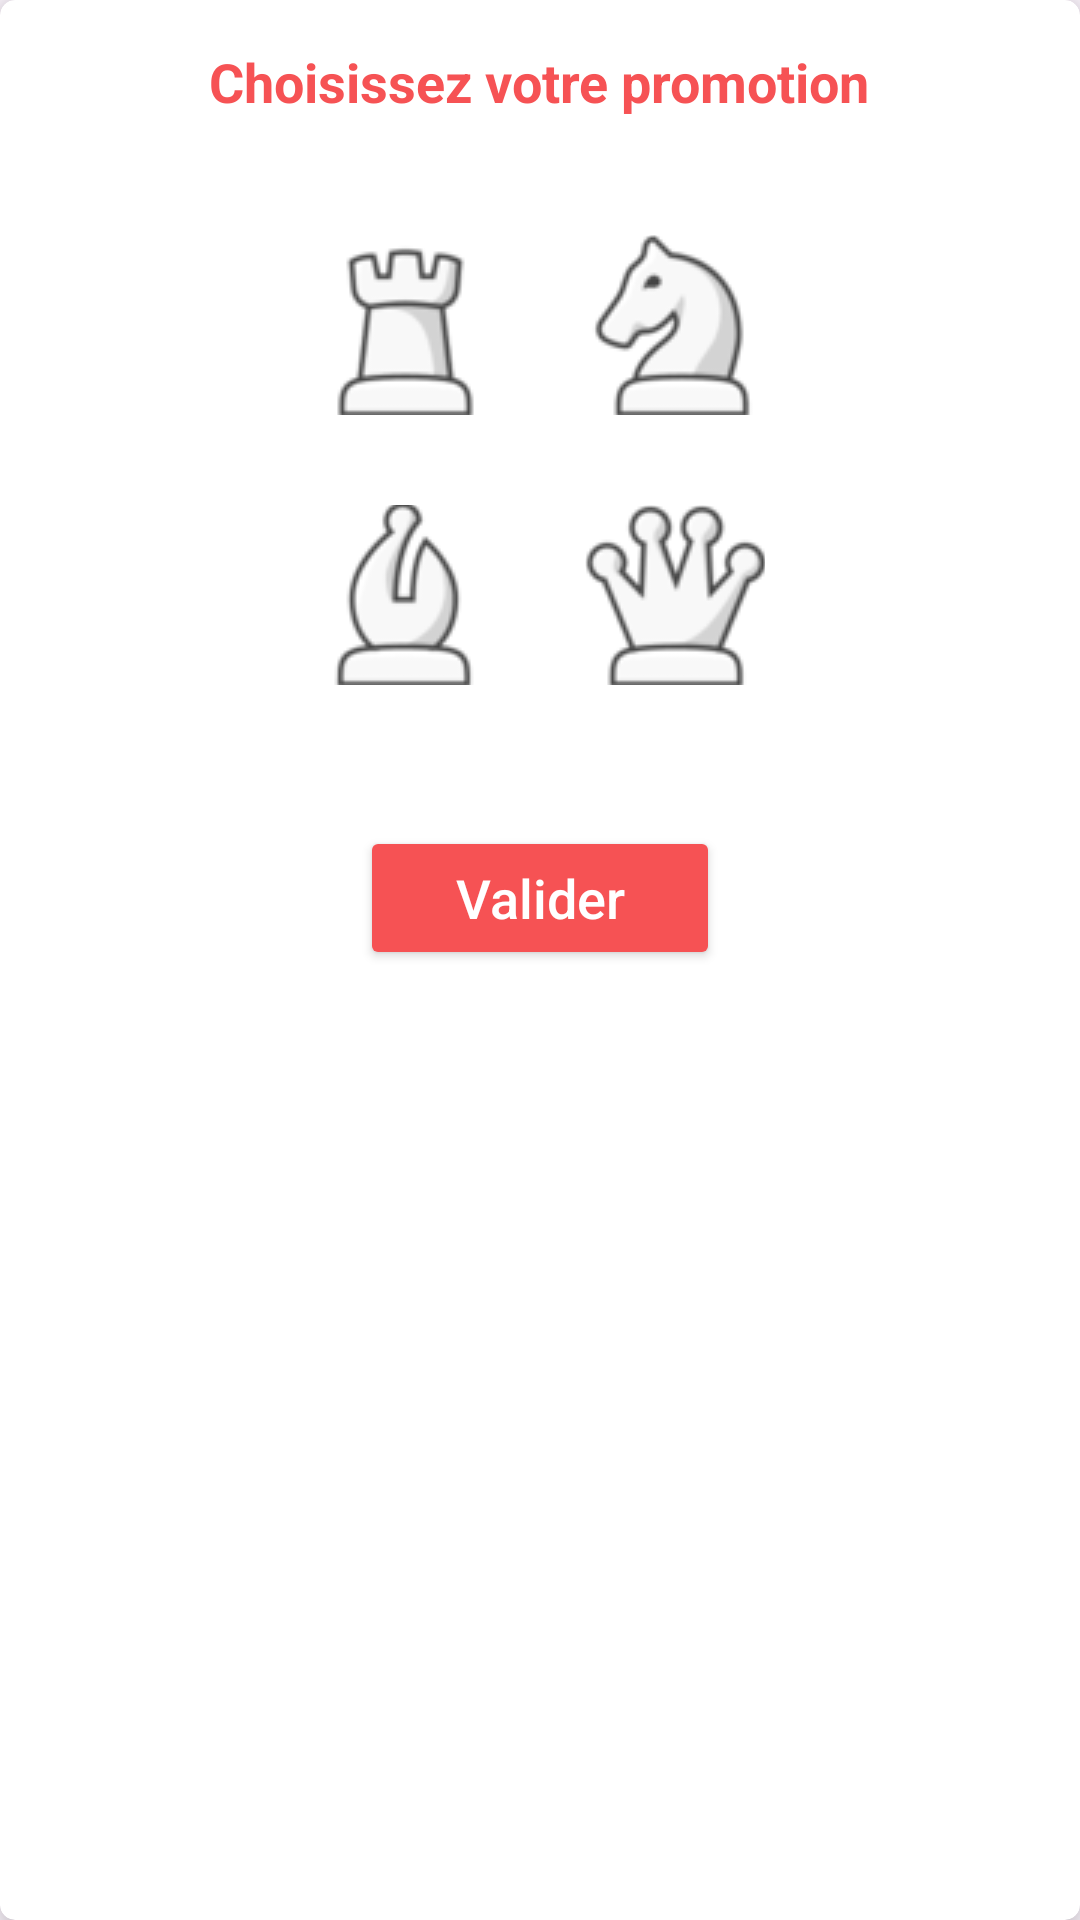

Icon bounding boxes for this 1080 x 1920 phone screenshot, format (x1, y1, x2, y2):
bishop: (336, 505, 471, 685)
knight: (595, 235, 750, 415)
queen: (586, 506, 765, 685)
rook: (337, 248, 474, 415)
